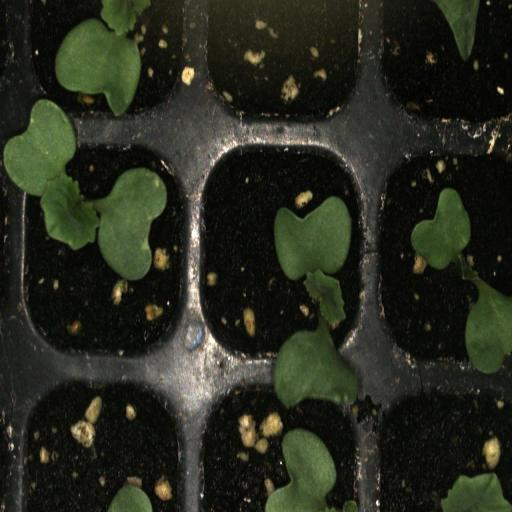Folha: (264, 428, 359, 512), (411, 188, 471, 270), (435, 0, 479, 58)
Germinacao: (189, 130, 373, 372), (14, 128, 190, 375), (376, 136, 512, 375)
